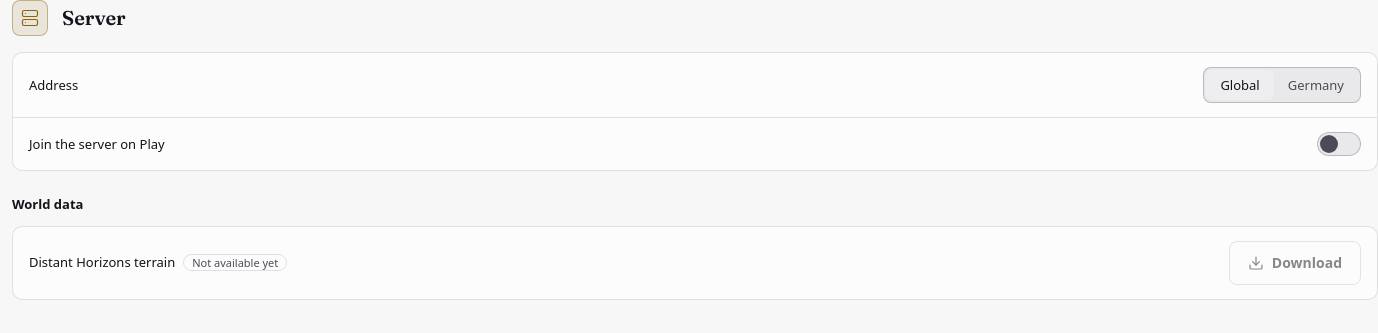
Test: The Server section of a chapter settings page › puts the switch back and shows the refusal under it
Click the switch named "Join the server on Play": (1339, 144) [1317,132,1361,156]
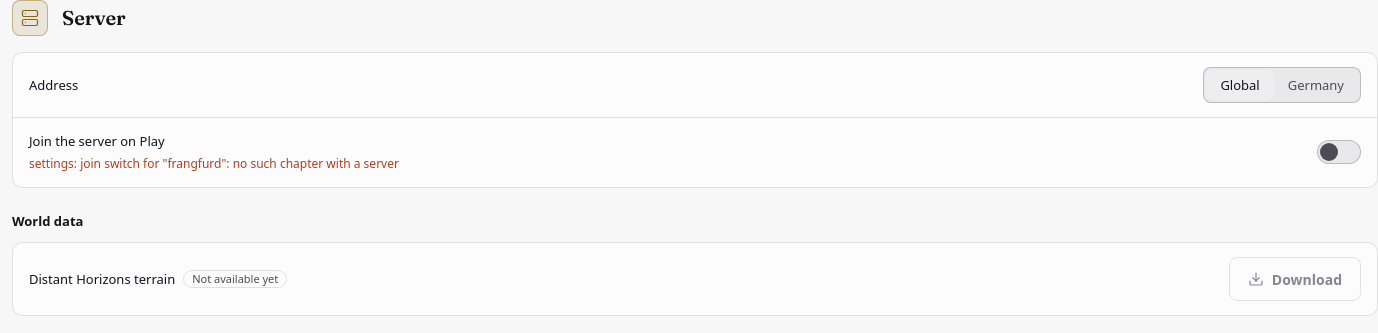
Expected: the switch named "Join the server on Play" is not checked, [1317,140,1361,164]
Result: the message shows "no such chapter with a server" at [29,155,399,172]
